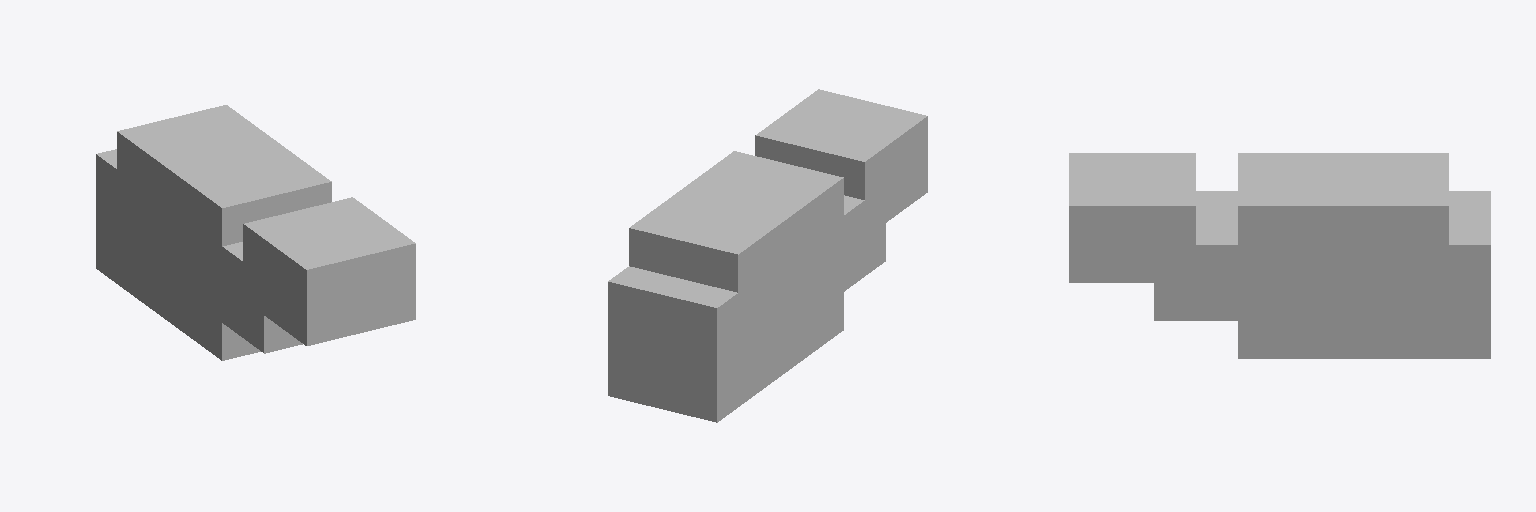
Rendered from stock.obj.
3 renders of one model, left to right at view 1: azimuth 30°, elevation 25°; view 2: azimuth 150°, elevation 25°; view 3: azimuth 270°, elevation 25°, orthographic.
Visible parts, largest first — view 1: Untitled; view 2: Untitled; view 3: Untitled.
Boxes of the visible parts, x1,y1,x2,y2 form: Untitled: [96, 105, 415, 360]; Untitled: [608, 89, 927, 422]; Untitled: [1069, 153, 1490, 358].
Bounding box in the file's own units: 0.3 × 0.4 × 1.